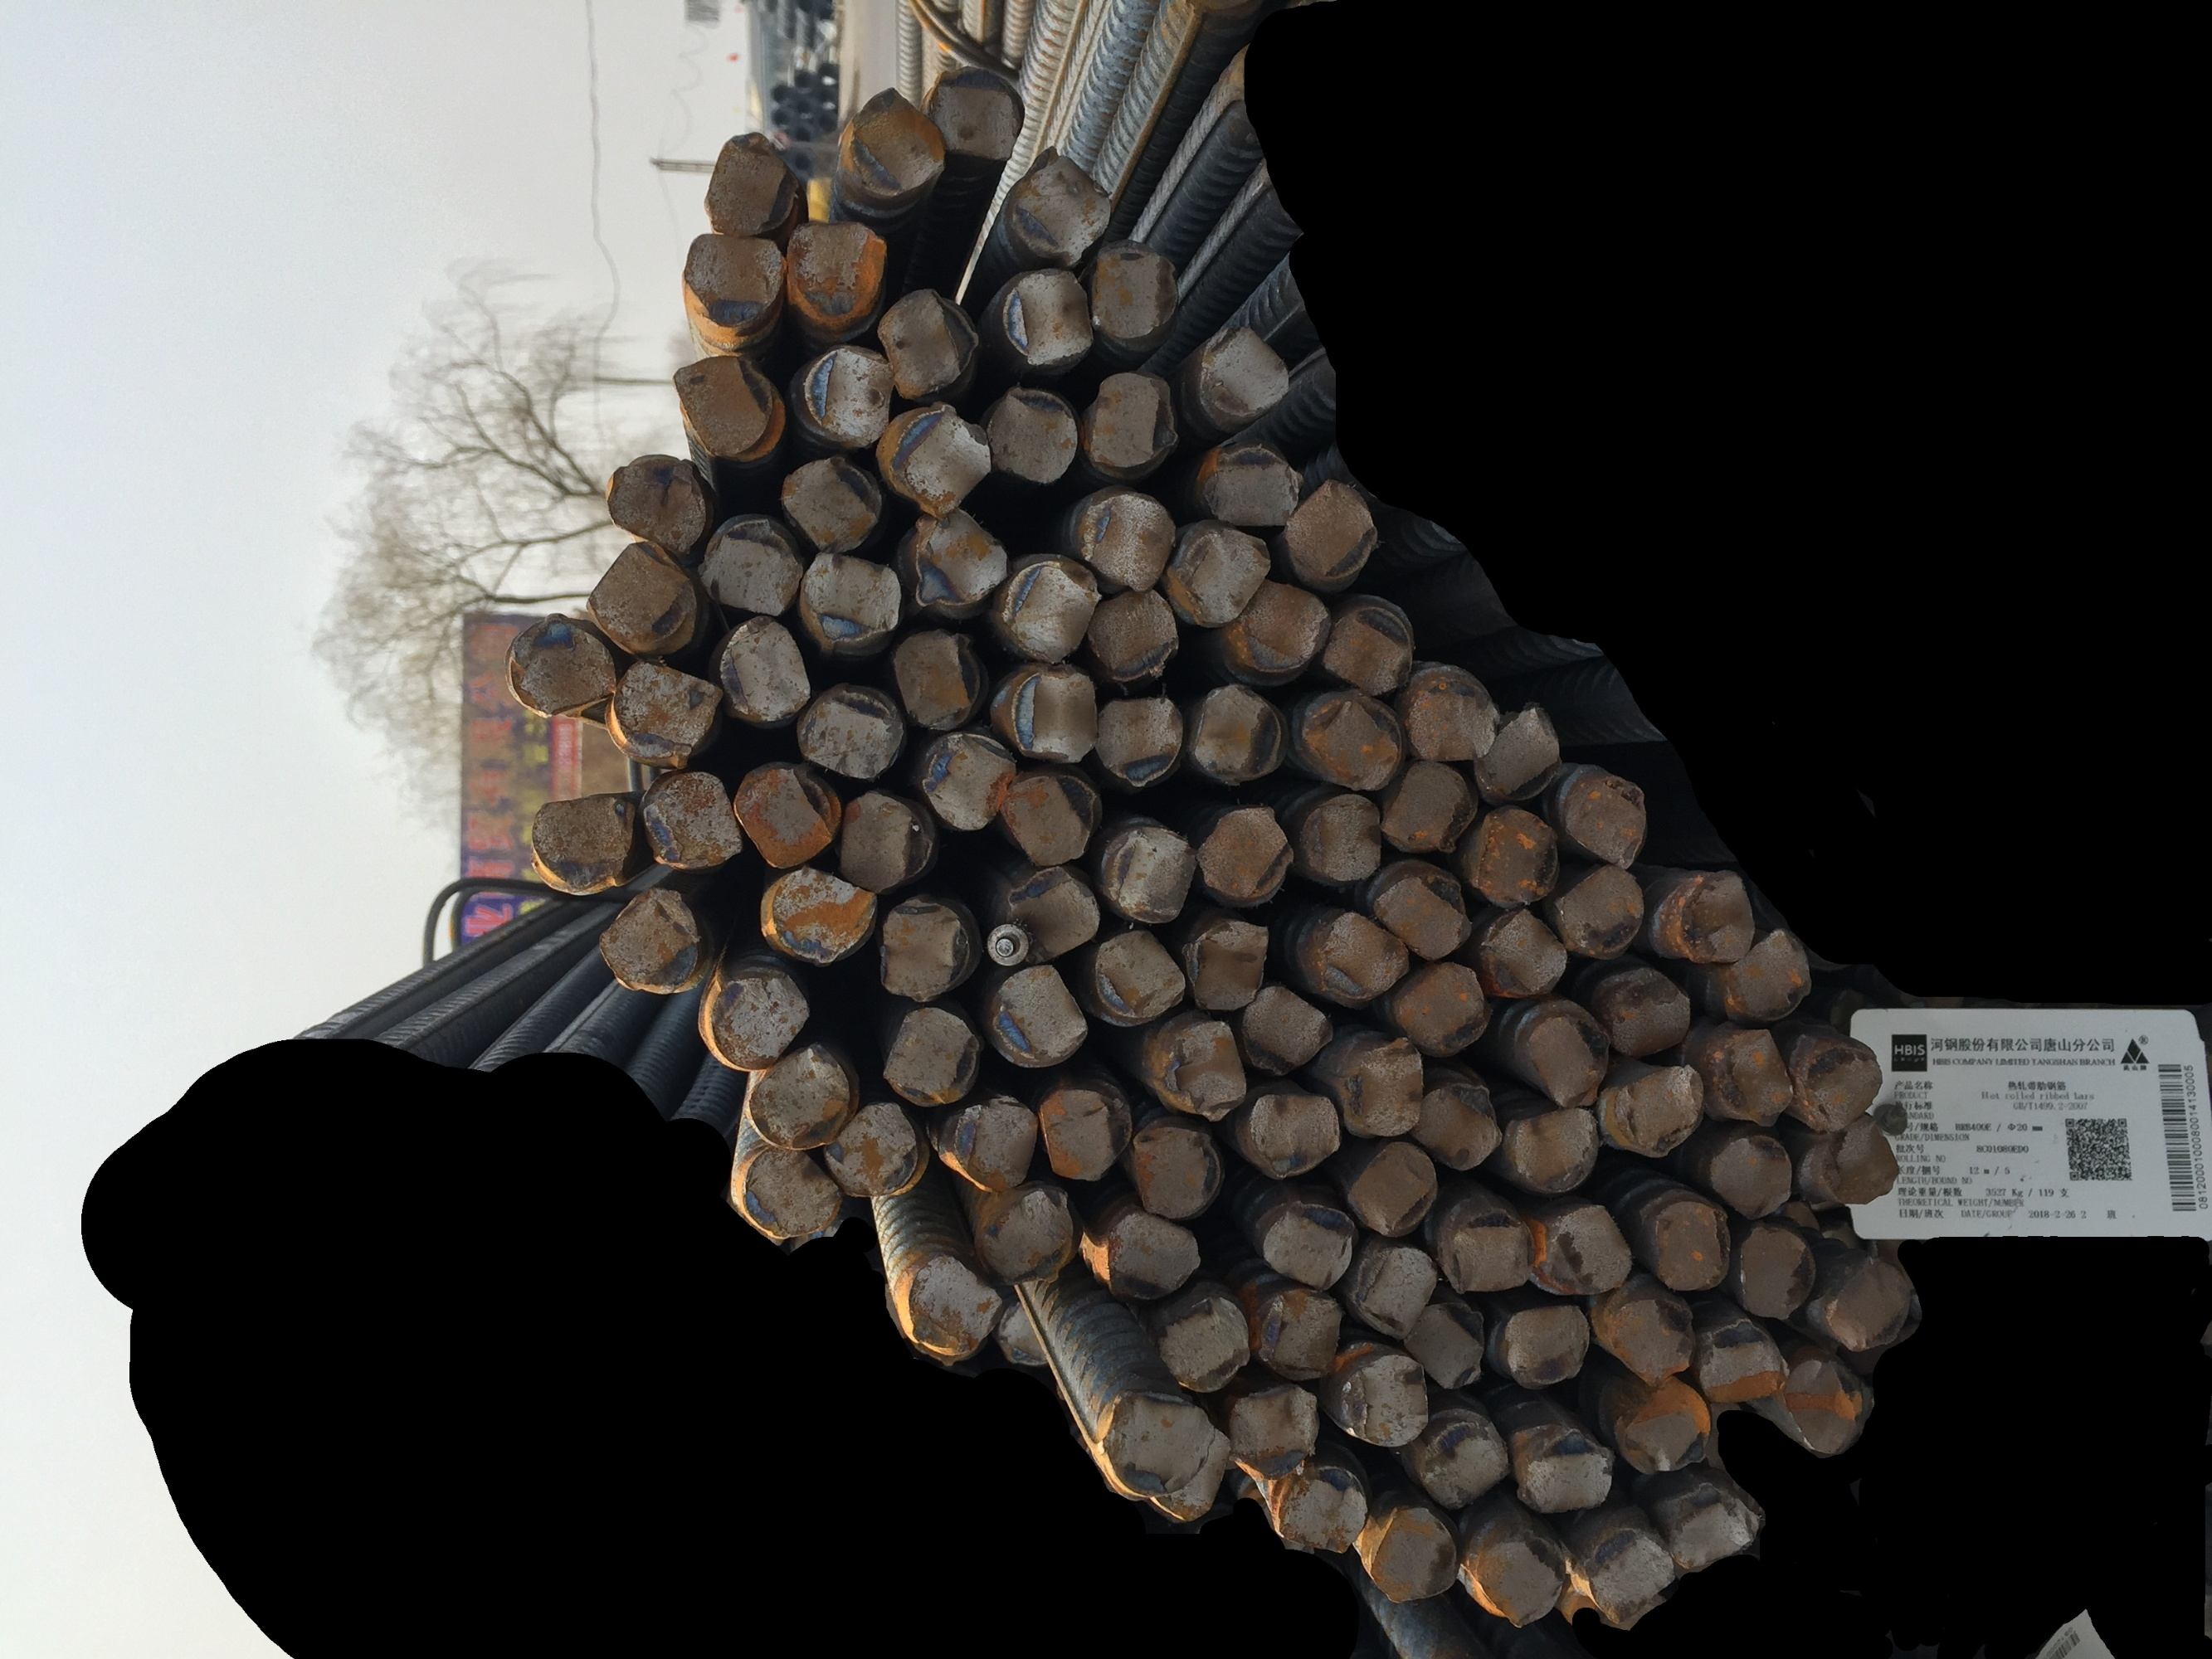rebar: (580, 535, 708, 657), (664, 345, 790, 467), (600, 652, 727, 772), (758, 854, 882, 971), (884, 399, 995, 528), (502, 606, 622, 723), (835, 80, 950, 202), (1002, 141, 1116, 265), (725, 760, 847, 873), (777, 213, 891, 331), (593, 882, 706, 1000), (978, 953, 1093, 1068), (692, 511, 809, 622), (995, 552, 1107, 669), (711, 605, 816, 728), (743, 1037, 852, 1154), (1297, 678, 1407, 795), (1100, 1389, 1213, 1500), (675, 227, 793, 333), (774, 453, 892, 559), (1217, 575, 1337, 680), (1607, 1368, 1719, 1480), (633, 765, 748, 873), (906, 502, 1018, 612), (526, 789, 640, 897), (701, 125, 805, 242), (1771, 1351, 1881, 1460), (797, 681, 908, 789), (701, 967, 814, 1073), (1079, 366, 1185, 479), (1574, 1521, 1677, 1638), (875, 281, 971, 404), (795, 545, 906, 652), (995, 856, 1100, 969), (992, 769, 1105, 873), (978, 378, 1082, 491), (1279, 474, 1384, 587), (798, 338, 901, 453), (873, 889, 974, 1006), (969, 1185, 1077, 1293), (1075, 488, 1184, 596), (605, 450, 711, 559), (879, 1000, 985, 1110), (1170, 519, 1276, 629), (737, 1140, 849, 1244), (1096, 816, 1199, 929), (1079, 579, 1185, 687), (1600, 1060, 1710, 1164), (1030, 1079, 1137, 1185), (818, 1094, 922, 1202), (917, 728, 1021, 836), (1189, 800, 1297, 904), (906, 1251, 1006, 1364), (924, 63, 1030, 167), (1374, 751, 1480, 856), (833, 788, 936, 896), (1184, 678, 1286, 786), (1232, 978, 1340, 1080), (1462, 1530, 1571, 1633), (1337, 1342, 1440, 1450), (1529, 1199, 1637, 1302), (1382, 958, 1494, 1058), (1654, 1478, 1766, 1577), (889, 622, 983, 739), (1468, 697, 1567, 807), (1466, 802, 1565, 911), (1086, 924, 1189, 1028), (1100, 1202, 1206, 1304), (1597, 1290, 1703, 1391), (1002, 666, 1102, 774), (1224, 1377, 1323, 1485), (1363, 1500, 1462, 1608), (1342, 1136, 1442, 1244), (1367, 870, 1478, 965), (997, 268, 1100, 371), (1152, 1291, 1255, 1394), (1154, 1014, 1253, 1121), (1246, 1281, 1347, 1384), (1499, 1098, 1602, 1199), (1400, 662, 1499, 767), (1311, 906, 1415, 1006), (1130, 1119, 1225, 1227), (952, 1087, 1046, 1197), (1196, 322, 1297, 423), (1086, 692, 1187, 793), (1469, 901, 1571, 1002), (1717, 924, 1818, 1025), (1314, 599, 1417, 699), (1557, 767, 1652, 873), (1238, 1087, 1344, 1183), (1640, 1192, 1736, 1298), (1818, 1255, 1917, 1356), (1086, 240, 1184, 343), (1257, 1199, 1360, 1297), (1347, 1239, 1443, 1344), (1436, 1204, 1541, 1300), (1194, 441, 1304, 532), (1806, 1110, 1907, 1208), (1337, 1035, 1431, 1140), (1595, 965, 1700, 1060), (1405, 1077, 1503, 1176), (1551, 859, 1647, 960), (1520, 1011, 1614, 1114), (1726, 1220, 1818, 1324), (1710, 1023, 1797, 1133), (1292, 789, 1389, 887), (1499, 1297, 1597, 1394), (1673, 863, 1762, 969), (1143, 1427, 1232, 1532), (1415, 1415, 1511, 1511), (1401, 1295, 1492, 1396), (1794, 1037, 1884, 1138), (1184, 915, 1272, 1018), (1703, 1131, 1797, 1227), (1271, 1466, 1370, 1556), (1517, 1429, 1618, 1518), (1693, 1333, 1795, 1408), (992, 1295, 1058, 1370)
